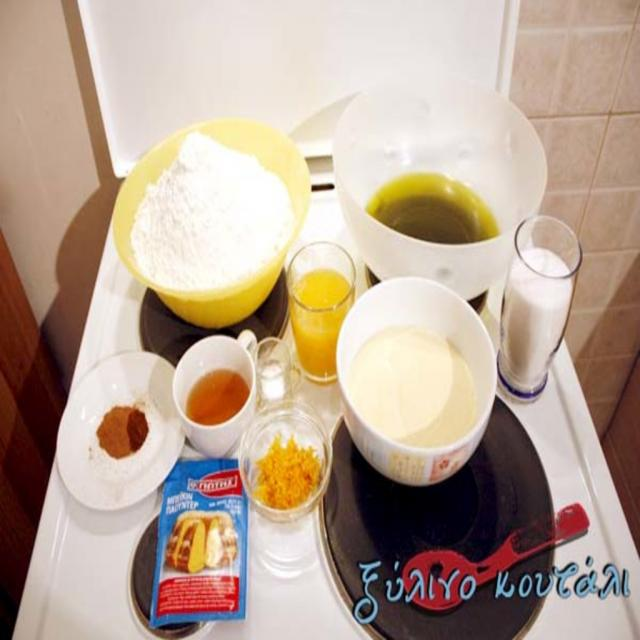Tea: (188, 368, 248, 423)
